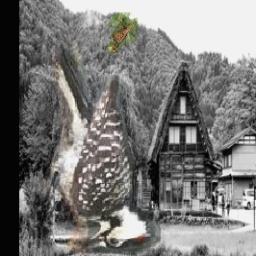Sparrow: (107, 12, 138, 53)
Woodpecker: (34, 40, 165, 254)
